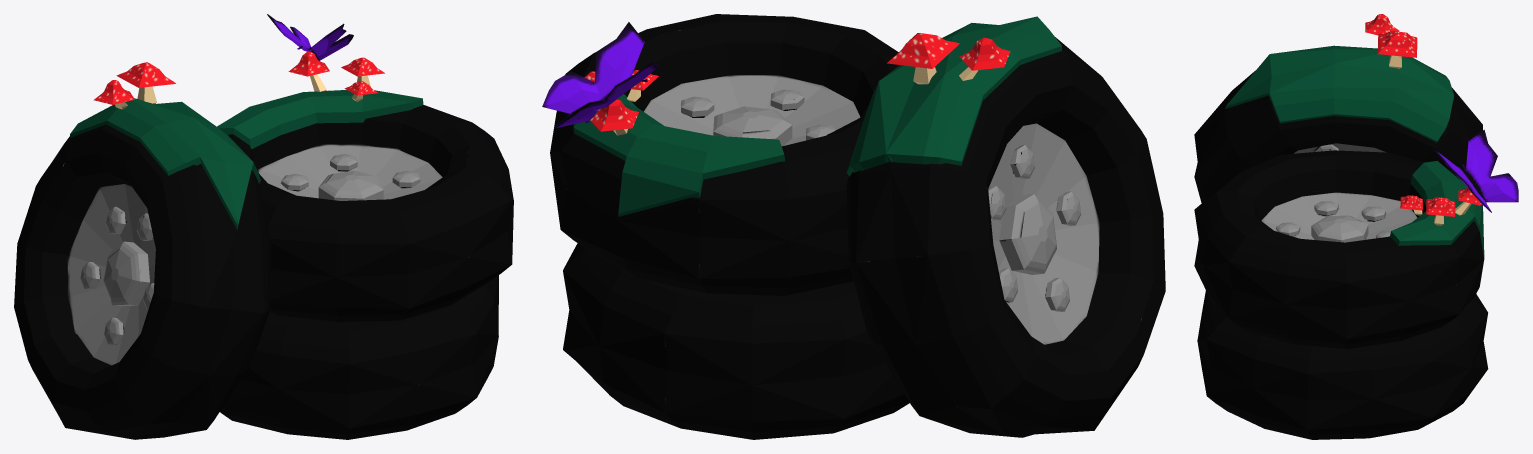
Rendered from Butterfly.fbx.
The picture shows the model from 3 angles, left to right: view 1: azimuth 30°, elevation 25°; view 2: azimuth 150°, elevation 25°; view 3: azimuth 270°, elevation 25°; orthographic projection. The views are drawn at different scales.
Parts seen in each view (by area): view 1: Cylinder; view 2: Cylinder; view 3: Cylinder.
Part boxes in pixels (bbox=[...]): Cylinder: bbox=[14, 14, 513, 439]; Cylinder: bbox=[542, 14, 1165, 439]; Cylinder: bbox=[1194, 14, 1518, 439].
Bounding box in the file's own units: 311 × 226 × 226.
5 materials, 4 textured.
